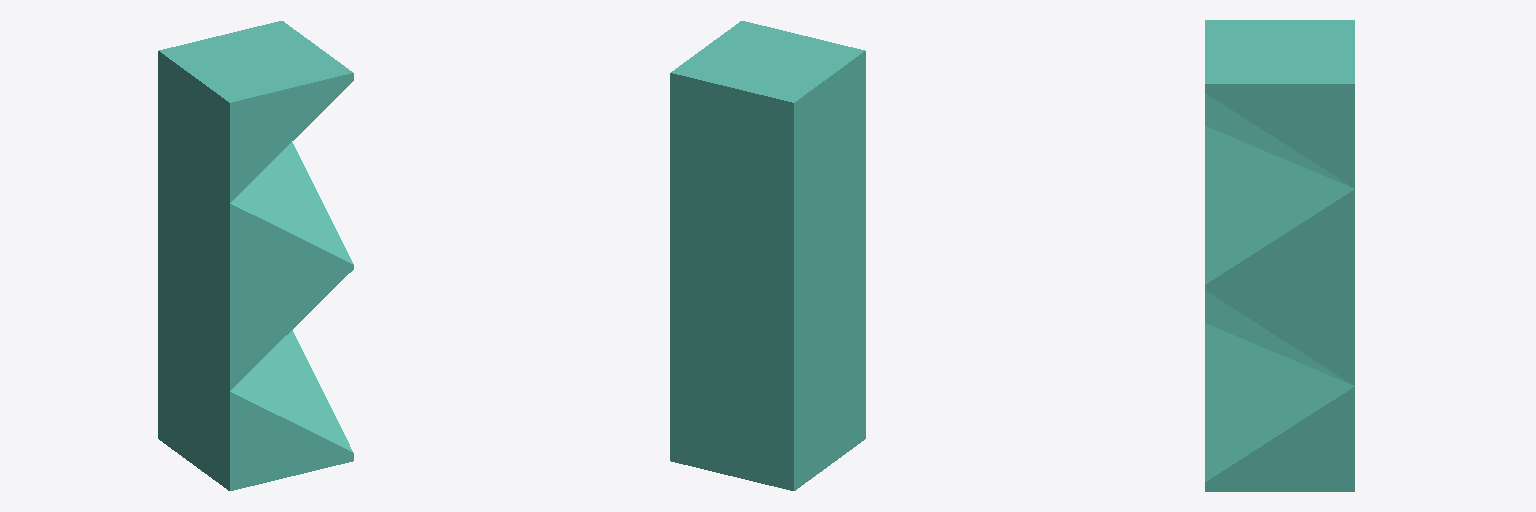
URDF robot description (obj_4):
<robot name="obj_4" version="1.0">
  <link name="link_4">
    <collision name="4-collision.001">
      <origin rpy="0.00000 0.00000 0.00000" xyz="0.00000 0.00000 0.00000"/>
      <geometry>
        <mesh filename="../meshes/obj/4-collision.001.obj" scale="1.00000 1.00000 1.00000"/>
      </geometry>
    </collision>
    <collision name="4-collision.002">
      <origin rpy="0.00000 0.00000 0.00000" xyz="0.00000 0.00000 0.00000"/>
      <geometry>
        <mesh filename="../meshes/obj/4-collision.002.obj" scale="1.00000 1.00000 1.00000"/>
      </geometry>
    </collision>
    <collision name="4-collision.003">
      <origin rpy="0.00000 0.00000 0.00000" xyz="0.00000 0.00000 0.00000"/>
      <geometry>
        <mesh filename="../meshes/obj/4-collision.003.obj" scale="1.00000 1.00000 1.00000"/>
      </geometry>
    </collision>
    <inertial>
      <inertia ixx="0.00019" ixy="0.00001" ixz="0.00000" iyy="0.00019" iyz="-0.00000" izz="0.00005"/>
      <origin rpy="0.00000 0.00000 0.00000" xyz="-0.47999 0.44631 0.22529"/>
      <mass value="0.01000"/>
    </inertial>
    <visual name="4">
      <material name="turnarrow"/>
      <origin rpy="1.57080 1.57080 0.00000" xyz="-0.44488 0.41120 0.22528"/>
      <geometry>
        <mesh filename="../meshes/obj/6 part puzzle cube.003.obj" scale="0.00500 0.00500 0.00500"/>
      </geometry>
    </visual>
  </link>
  <material name="turnarrow">
    <color rgba="0.44314 0.80000 0.74118 1.00000"/>
  </material>
</robot>

--- What the picture shows (computed from the rendered views, not written in the file) ---
3 views of the same robot in one strip: view 1: azimuth 30°, elevation 25°; view 2: azimuth 150°, elevation 25°; view 3: azimuth 270°, elevation 25° (orthographic).
Model obj_4 with 1 links and 0 joints (none), rooted at link_4, posed all joints at 0.
Visible links, largest first — view 1: link_4; view 2: link_4; view 3: link_4.
Boxes of the visible links, x1=… form: link_4: x1=158, y1=21, x2=353, y2=490; link_4: x1=670, y1=21, x2=865, y2=490; link_4: x1=1205, y1=20, x2=1354, y2=491.
Bounding box of the posed robot: 0.15 × 0.15 × 0.45 m (x, y, z).
1 mesh visuals loaded from 1 distinct referenced files (1 OBJ).